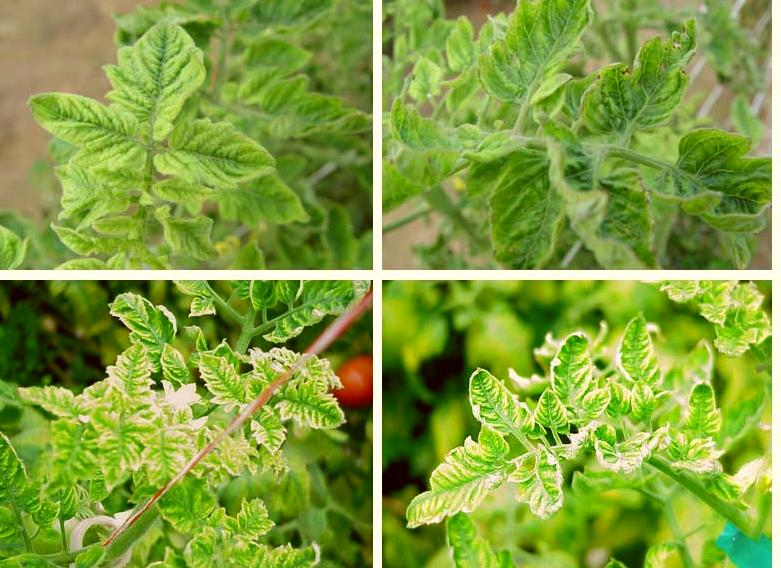Tomato leaf yellow virus: (625, 124, 770, 247), (574, 31, 701, 148), (113, 15, 211, 145), (466, 141, 567, 264), (400, 435, 530, 530), (487, 0, 597, 99), (20, 86, 140, 157), (165, 118, 296, 174), (496, 444, 570, 543), (461, 365, 538, 449), (550, 326, 612, 426), (0, 420, 44, 528), (91, 415, 149, 486), (618, 301, 660, 391), (278, 384, 347, 437), (164, 472, 219, 532), (194, 352, 246, 407), (105, 345, 150, 403), (229, 491, 275, 547), (683, 374, 717, 449), (530, 390, 578, 434), (160, 338, 191, 391), (627, 376, 659, 423)
